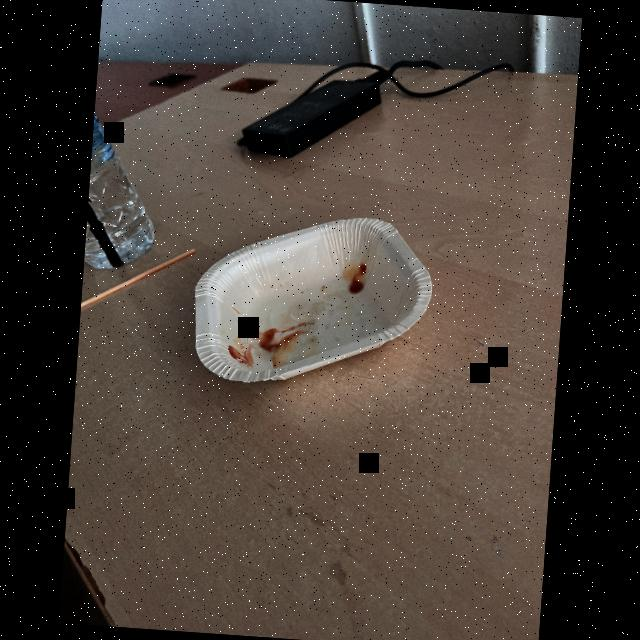cardboard_bowl: (188, 198, 439, 402)
stick: (80, 236, 202, 324)
